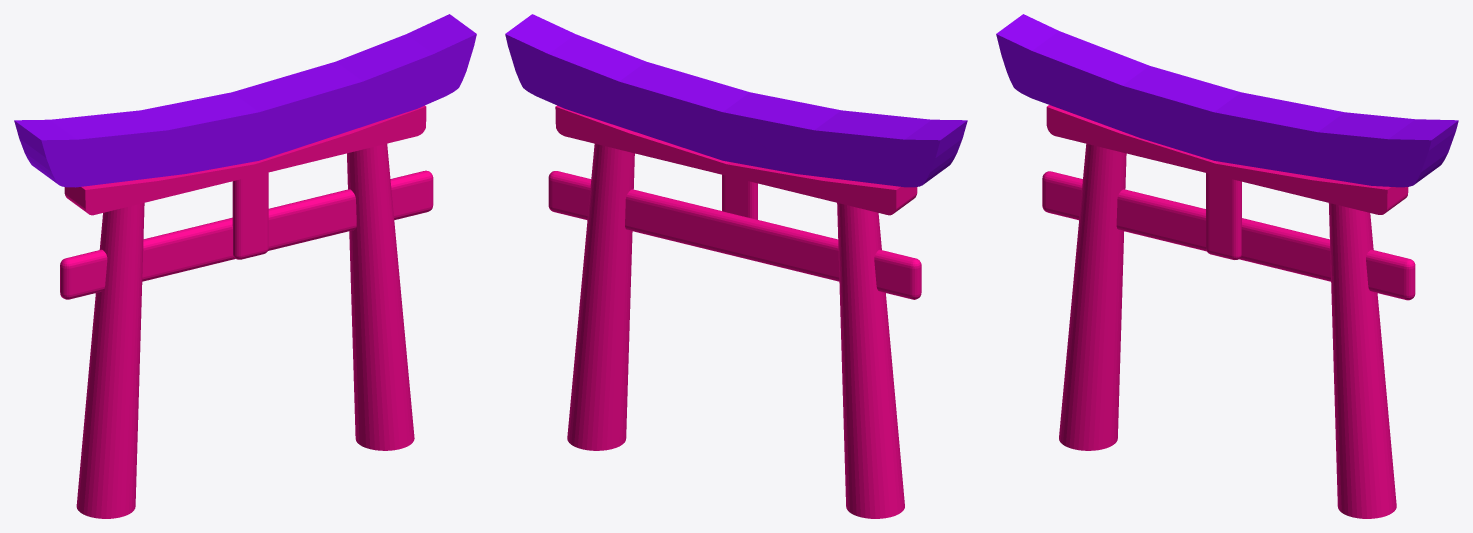
Rendered from ARCO.glb.
3 views of the same model, side by side, from view 1: azimuth 30°, elevation 25°; view 2: azimuth 150°, elevation 25°; view 3: azimuth 330°, elevation 25° (orthographic).
Visible parts, largest first — view 1: node_id3; view 2: node_id3; view 3: node_id3.
Part boxes in pixels (x1=…): node_id3: x1=14, y1=14, x2=476, y2=518; node_id3: x1=505, y1=14, x2=967, y2=518; node_id3: x1=996, y1=14, x2=1458, y2=518.
Bounding box in the file's own units: 0.512 × 0.4442 × 0.06.
Materials: 1 (1 with a texture image).
